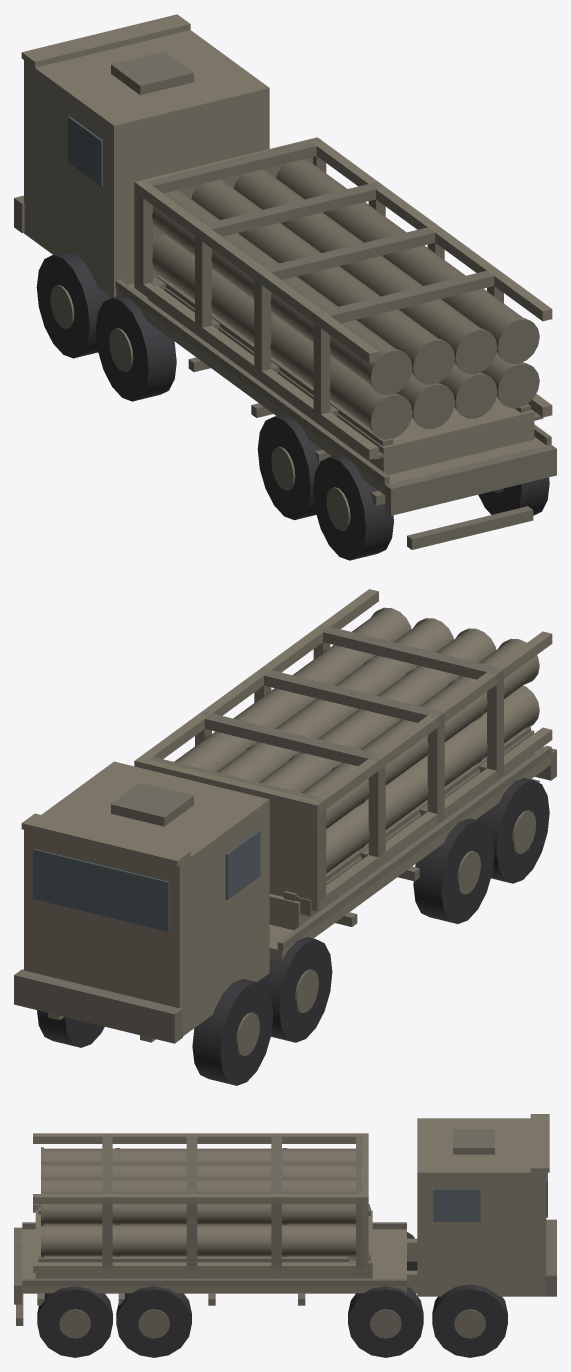
The model's file is thundart.glb.
The picture shows the model from 3 angles, top to bottom: view 1: azimuth 30°, elevation 25°; view 2: azimuth 150°, elevation 25°; view 3: azimuth 270°, elevation 25°; orthographic projection. The views are drawn at different scales.
Parts seen in each view (by area): view 1: THD_Cab, THD_Launcher_Rack, THD_Chassis, THD_Canister_05, THD_Launcher_Base, THD_Canister_03, THD_Canister_02, THD_Canister_04, THD_Canister_01, THD_Wheel_L2, THD_Wheel_L4, THD_Wheel_L1 (+5 smaller); view 2: THD_Cab, THD_Launcher_Rack, THD_Canister_05, THD_Chassis, THD_Canister_02, THD_Canister_04, THD_Canister_03, THD_Wheel_L1, THD_Wheel_L3, THD_Canister_01, THD_Wheel_L2, THD_Wheel_L4 (+2 smaller); view 3: THD_Cab, THD_Launcher_Rack, THD_Chassis, THD_Canister_08, THD_Canister_04, THD_Launcher_Base, THD_Canister_03, THD_Canister_01, THD_Canister_02, THD_Wheel_R1, THD_Wheel_R2, THD_Wheel_R4 (+1 smaller).
Boxes of the visible parts, bbox=[...] form: THD_Cab: bbox=[14, 14, 269, 297]; THD_Launcher_Rack: bbox=[134, 137, 552, 459]; THD_Chassis: bbox=[115, 279, 556, 549]; THD_Canister_05: bbox=[152, 234, 412, 439]; THD_Launcher_Base: bbox=[148, 275, 534, 474]; THD_Canister_03: bbox=[234, 169, 497, 374]; THD_Canister_02: bbox=[191, 179, 454, 384]; THD_Canister_04: bbox=[276, 159, 539, 363]; THD_Canister_01: bbox=[152, 190, 412, 394]; THD_Wheel_L2: bbox=[95, 296, 176, 401]; THD_Wheel_L4: bbox=[313, 455, 393, 560]; THD_Wheel_L1: bbox=[36, 251, 111, 358]; THD_Cab: bbox=[14, 761, 269, 1043]; THD_Launcher_Rack: bbox=[134, 589, 552, 916]; THD_Canister_05: bbox=[326, 685, 539, 873]; THD_Chassis: bbox=[48, 745, 556, 1042]; THD_Canister_02: bbox=[259, 628, 496, 792]; THD_Canister_04: bbox=[174, 607, 411, 772]; THD_Canister_03: bbox=[217, 618, 453, 782]; THD_Wheel_L1: bbox=[192, 979, 273, 1085]; THD_Wheel_L3: bbox=[413, 818, 494, 923]; THD_Canister_01: bbox=[301, 638, 539, 828]; THD_Wheel_L2: bbox=[257, 937, 332, 1042]; THD_Wheel_L4: bbox=[476, 778, 549, 883]; THD_Cab: bbox=[417, 1114, 556, 1296]; THD_Launcher_Rack: bbox=[33, 1133, 369, 1274]; THD_Chassis: bbox=[14, 1222, 417, 1325]; THD_Canister_08: bbox=[41, 1225, 355, 1257]; THD_Canister_04: bbox=[41, 1191, 355, 1226]; THD_Launcher_Base: bbox=[35, 1207, 372, 1278]; THD_Canister_03: bbox=[41, 1177, 355, 1193]; THD_Canister_01: bbox=[41, 1147, 355, 1163]; THD_Canister_02: bbox=[41, 1162, 355, 1178]; THD_Wheel_R1: bbox=[432, 1284, 507, 1357]; THD_Wheel_R2: bbox=[348, 1286, 423, 1357]; THD_Wheel_R4: bbox=[37, 1286, 112, 1357].
Bounding box in the file's own units: 2.94 × 3.92 × 10.31.
